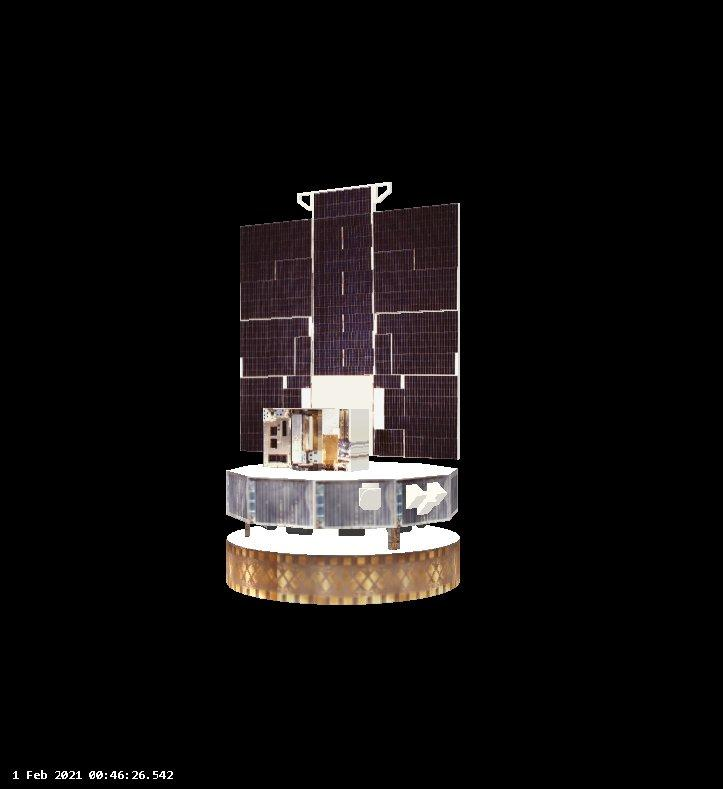antenna: (356, 488, 384, 509)
body: (224, 394, 466, 611)
solar: (367, 196, 464, 462), (231, 215, 319, 459), (310, 185, 378, 381)
